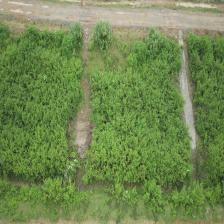vegetation: (84, 28, 191, 211), (0, 23, 83, 182), (187, 34, 224, 189)
